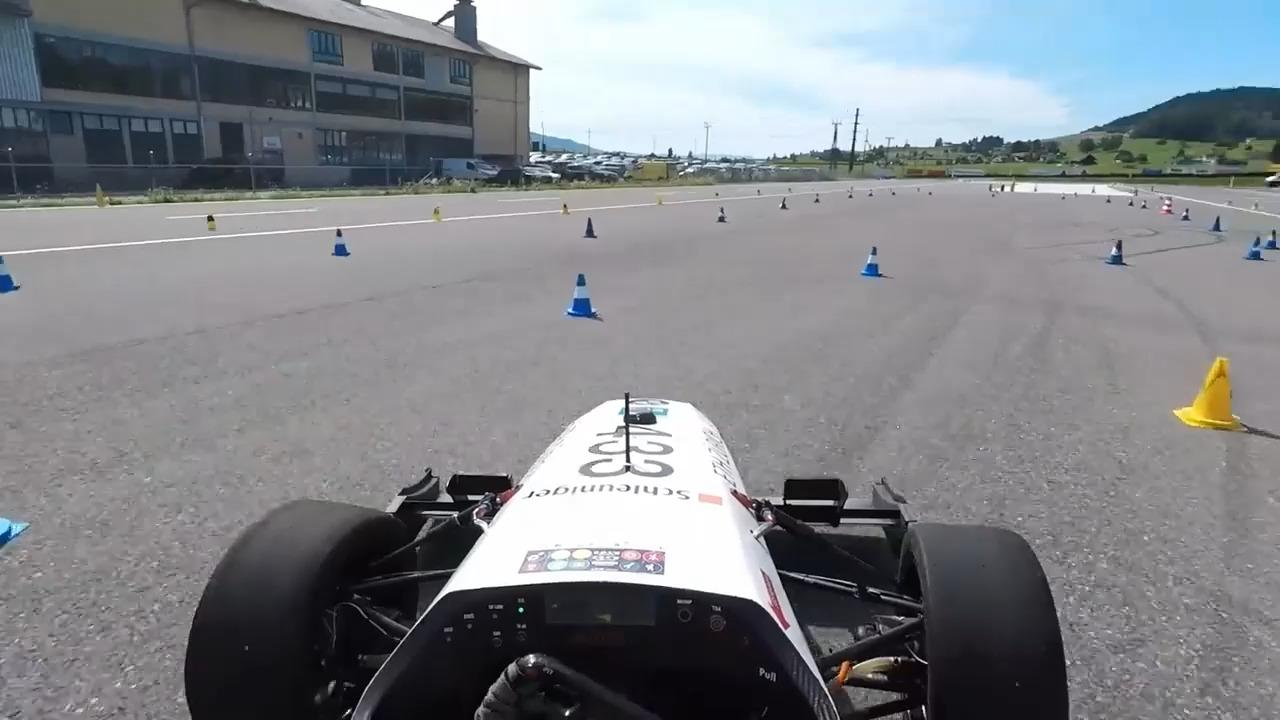blue_cone: (563, 265, 593, 319), (0, 252, 22, 291), (861, 242, 884, 279), (324, 225, 348, 258), (1102, 236, 1124, 265), (1243, 235, 1262, 262), (580, 213, 597, 241), (1209, 213, 1225, 235), (1266, 230, 1280, 252), (716, 201, 728, 226), (1180, 205, 1192, 225), (778, 195, 788, 211), (814, 191, 821, 205), (1140, 196, 1148, 208), (1127, 196, 1133, 207)
large_orange_cone: (1160, 196, 1172, 216)
yellow_cone: (1164, 340, 1250, 438), (200, 210, 218, 233), (430, 202, 444, 224), (559, 197, 571, 217), (653, 192, 661, 207)
